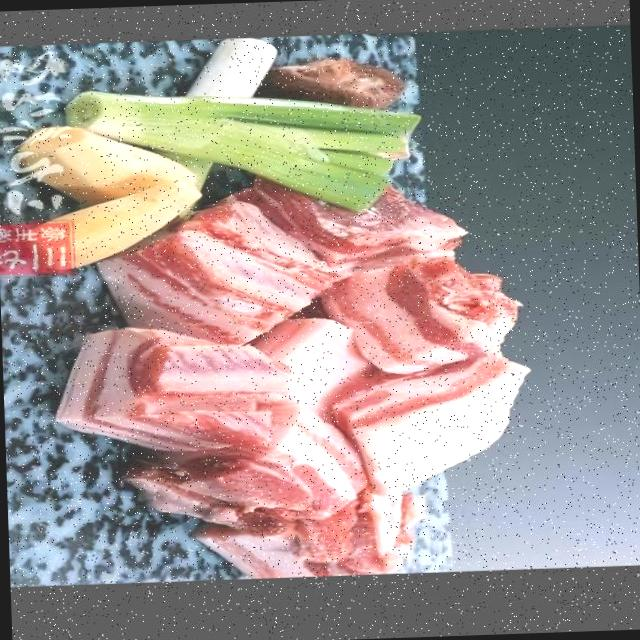pork: (54, 328, 292, 450), (122, 406, 367, 522), (335, 357, 529, 491), (106, 231, 321, 344), (234, 171, 468, 274), (322, 257, 517, 373), (198, 493, 408, 575), (180, 198, 341, 284)
